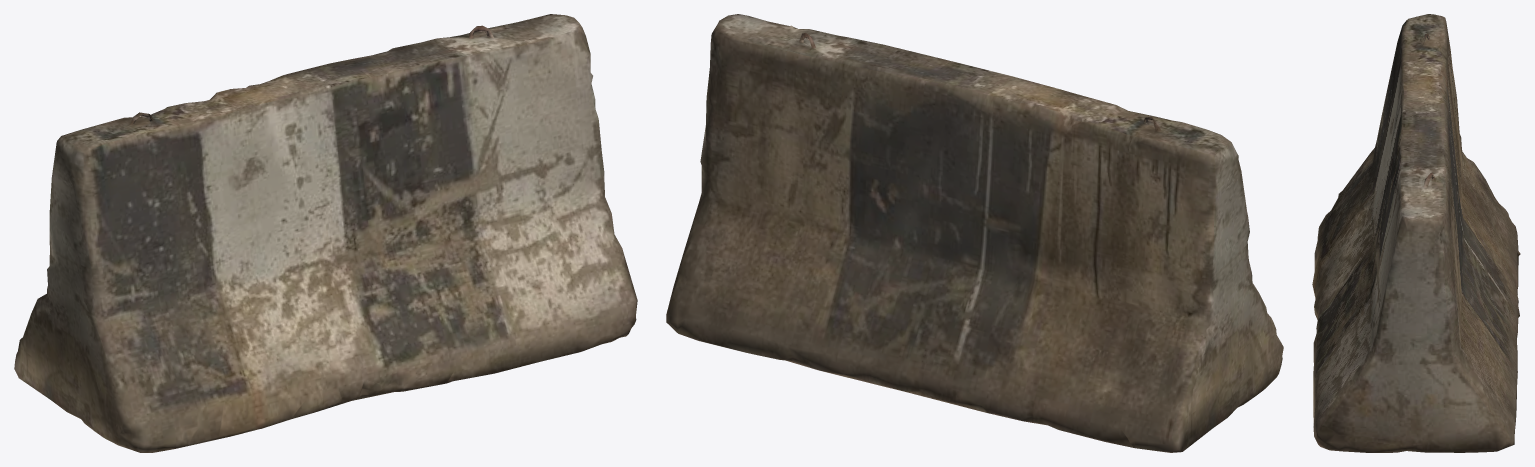
File: barrier.glb
3 views of the same model, side by side, from view 1: azimuth 30°, elevation 25°; view 2: azimuth 150°, elevation 25°; view 3: azimuth 270°, elevation 25° (orthographic). The views are drawn at different scales.
Parts seen in each view (by area): view 1: concrete_road_barrier; view 2: concrete_road_barrier; view 3: concrete_road_barrier.
Part boxes in pixels (box(x1,y1,x2,y2)): concrete_road_barrier: box(14, 14, 637, 452); concrete_road_barrier: box(666, 14, 1283, 452); concrete_road_barrier: box(1312, 14, 1520, 452).
Bounding box in the file's own units: 1.54 × 0.8304 × 0.6387.
1 material, 1 textured.
